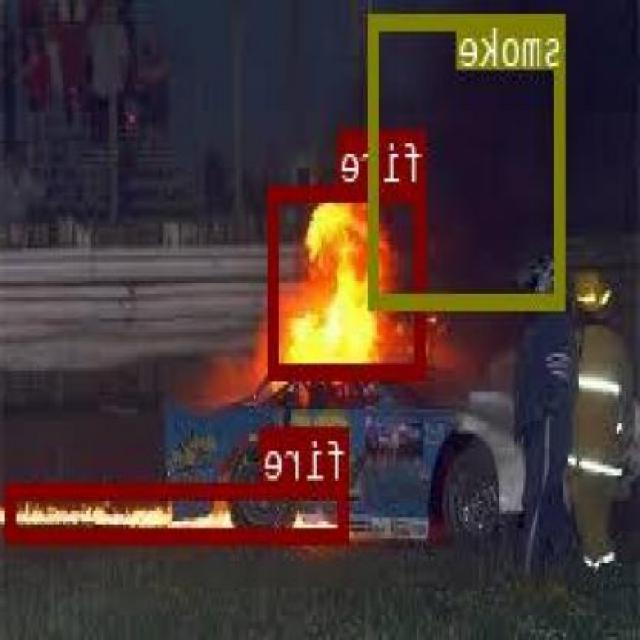Fire: (272, 181, 428, 377), (7, 482, 350, 541)
Smoke: (370, 12, 568, 306)
